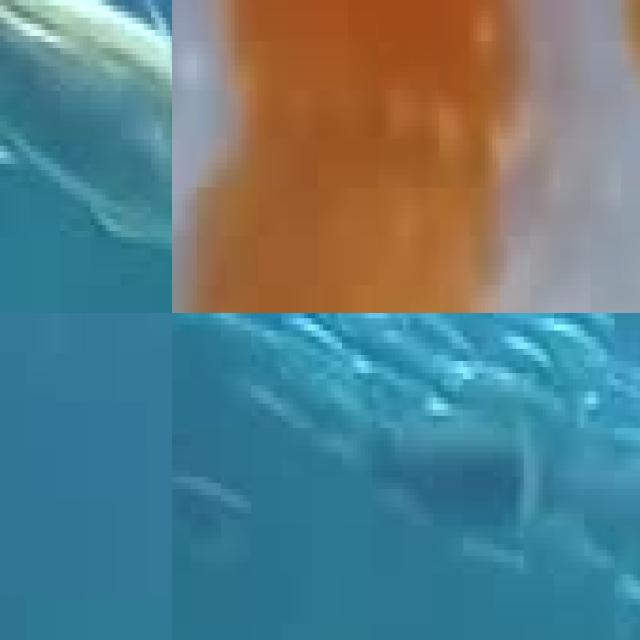fish: (172, 0, 640, 313), (0, 0, 172, 313)
